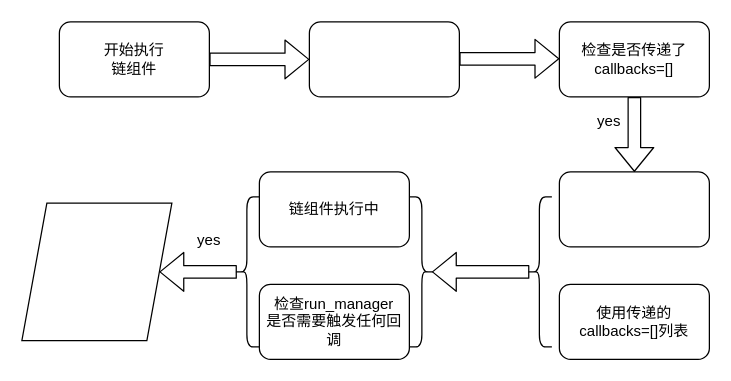
This 731x381 diagram has some shape labels left out. The shapes that lost their labels are listed below. From the top down, each one's centre as x and y in pixels, then its label:
At (x=383, y=59): "准备处理输入数据".
At (x=633, y=209): "初始化run_manager".
At (x=96, y=271): "触发回调 按照callbacks=[] 中定义的顺序 依次触发回调".
